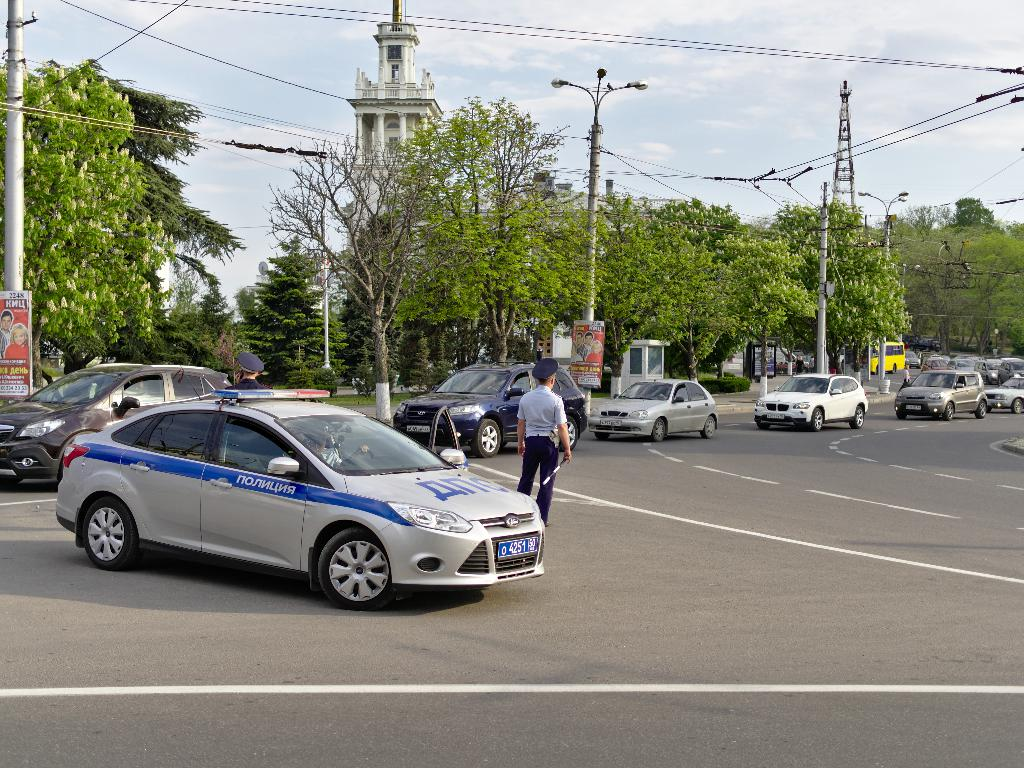Car: (51, 386, 552, 604), (0, 355, 234, 489), (387, 361, 582, 458), (586, 378, 717, 438), (754, 375, 869, 428), (893, 365, 988, 422), (986, 370, 1023, 414)
